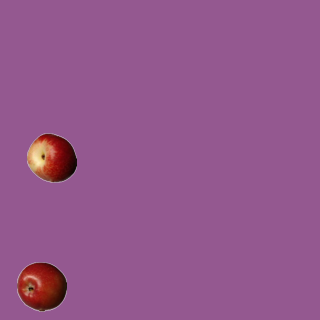Apple Braeburn: (16, 261, 66, 311)
Nectarine: (26, 132, 76, 182)
